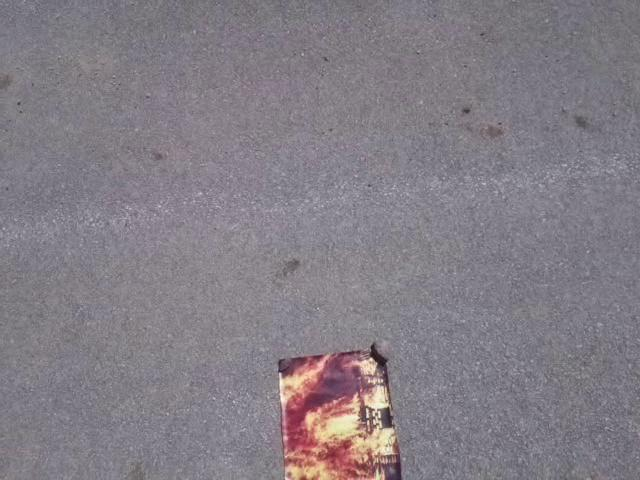fire-poster: (275, 339, 404, 479)
